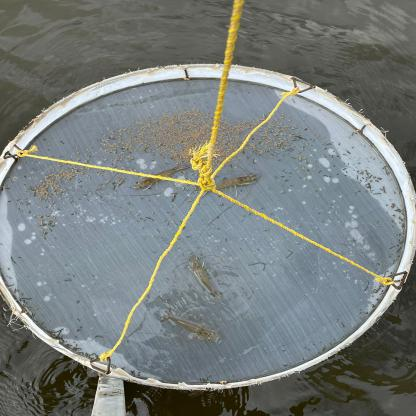shrimp: (160, 308, 219, 342), (188, 254, 224, 299), (198, 174, 260, 198), (133, 165, 190, 189)
